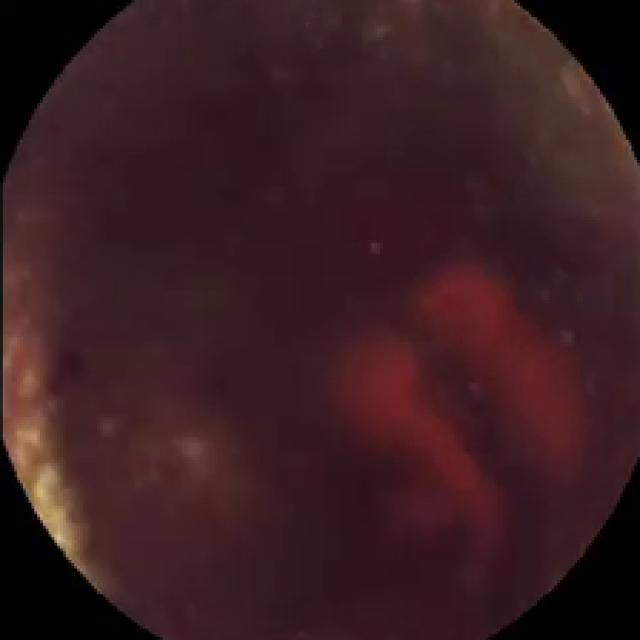bleeding: (323, 260, 583, 546)
